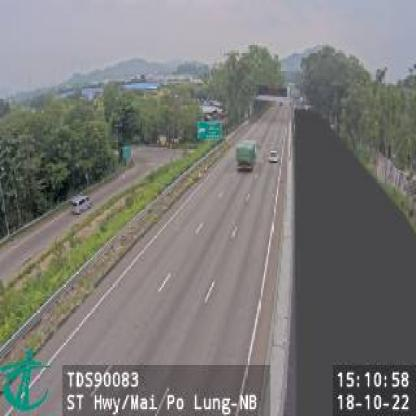Car: (70, 193, 91, 215), (268, 148, 278, 164)
Truck: (237, 140, 258, 170)
